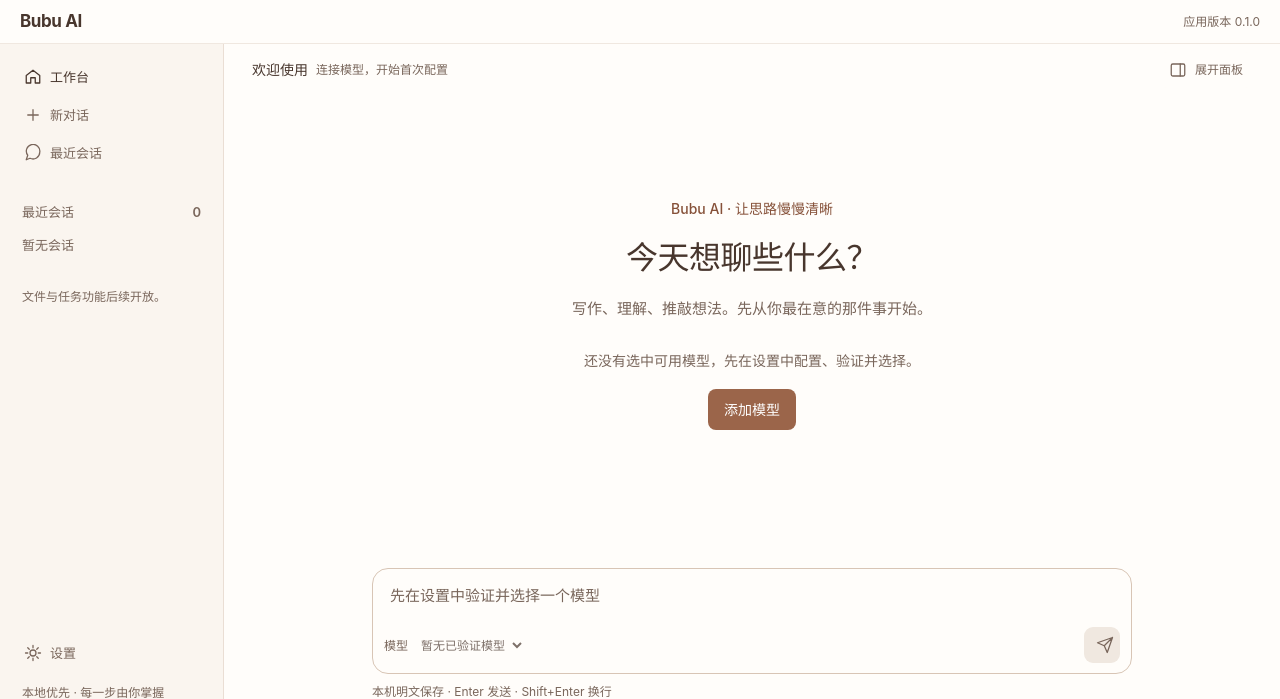
Test: model settings with an explicitly mocked bridge › creates a configuration without testing or exposing the entered key
The image size is (1280, 699).
expect the text "应用版本 0.1.0" is shown: met, box [1183,12,1260,31]
Click the button "设置" at (112, 653), box [12,634,211,672]
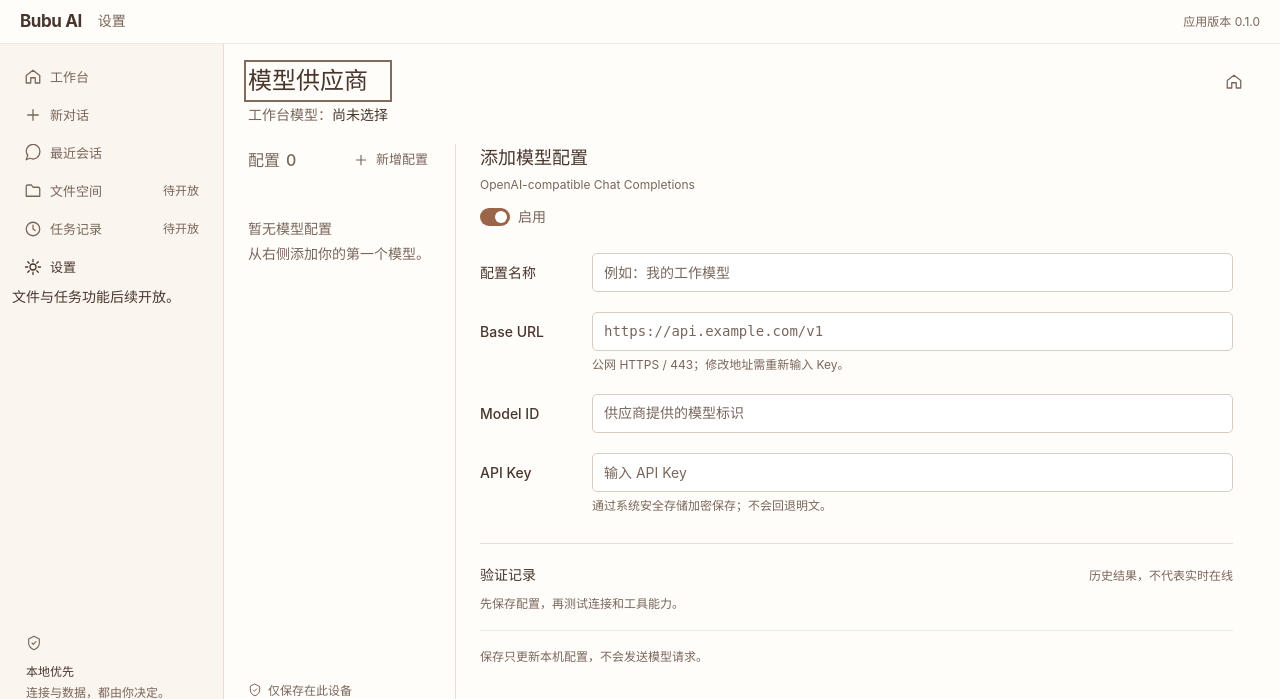
Type "示例模型" into the field labelled "配置名称" at (912, 272), box [592,253,1233,292]
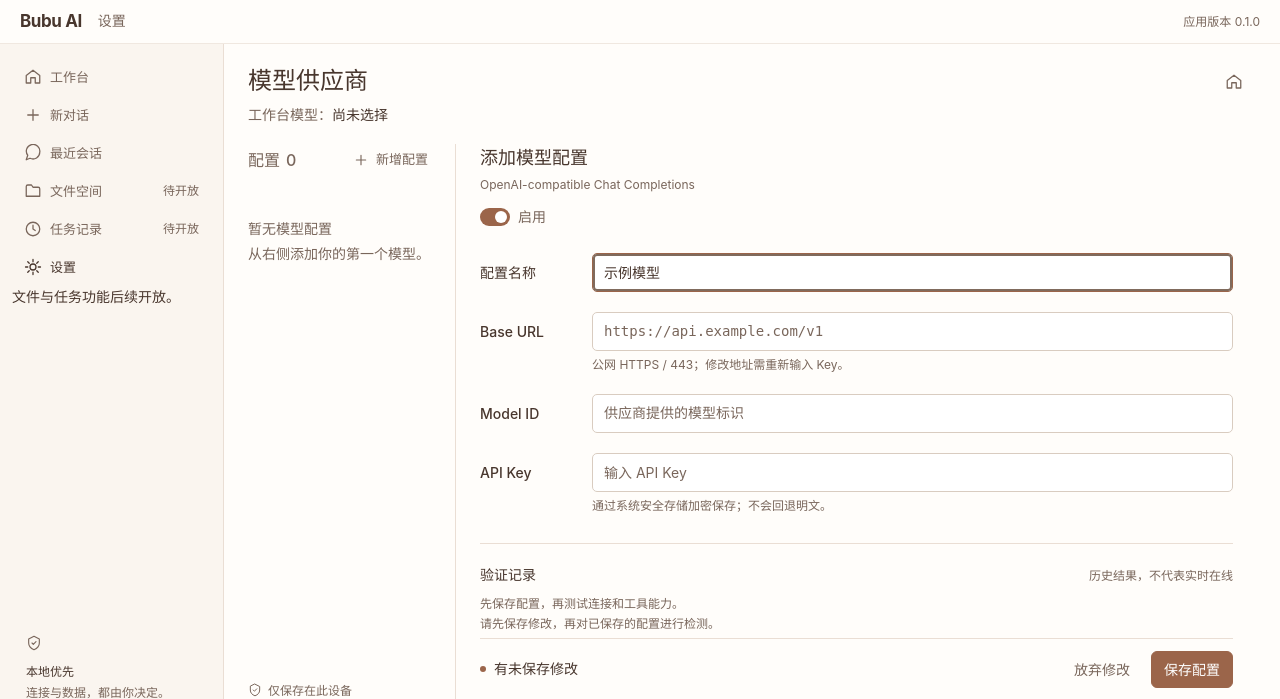
Type "https://provider.example/v1" into the field labelled "Base URL" at (912, 331), box [592,312,1233,351]
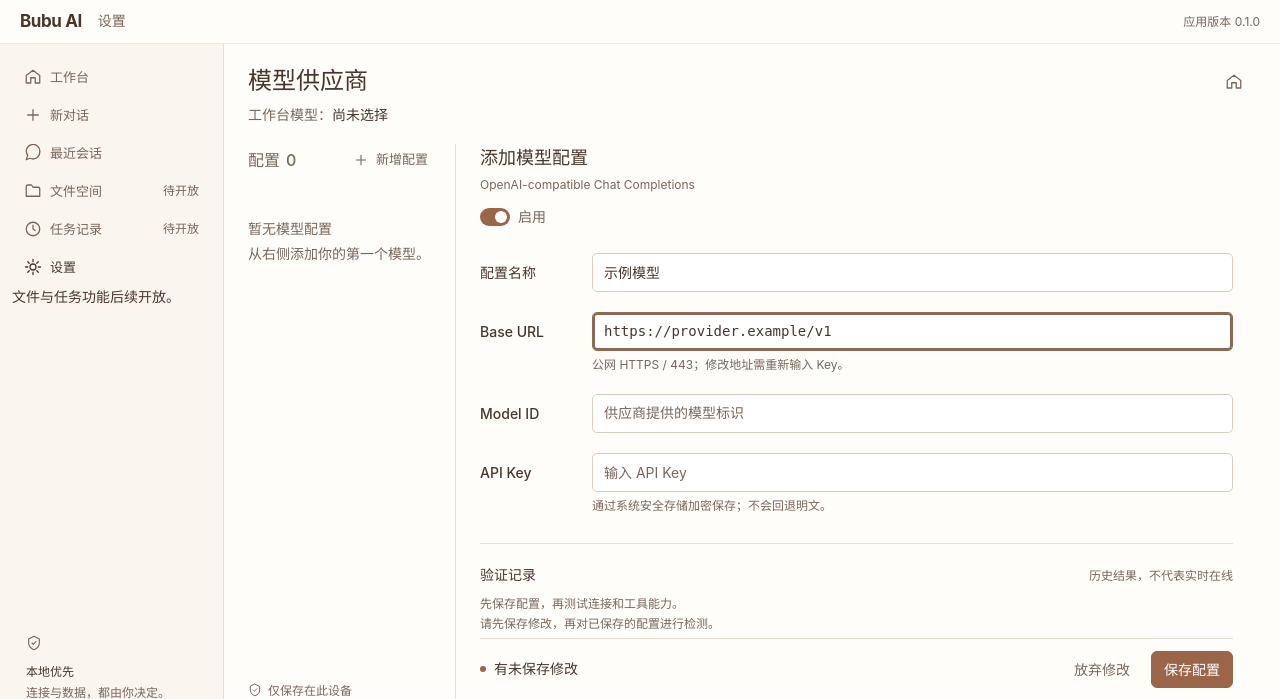
Type "fixture-model" into the field labelled "Model ID" at (912, 413), box [592,394,1233,433]
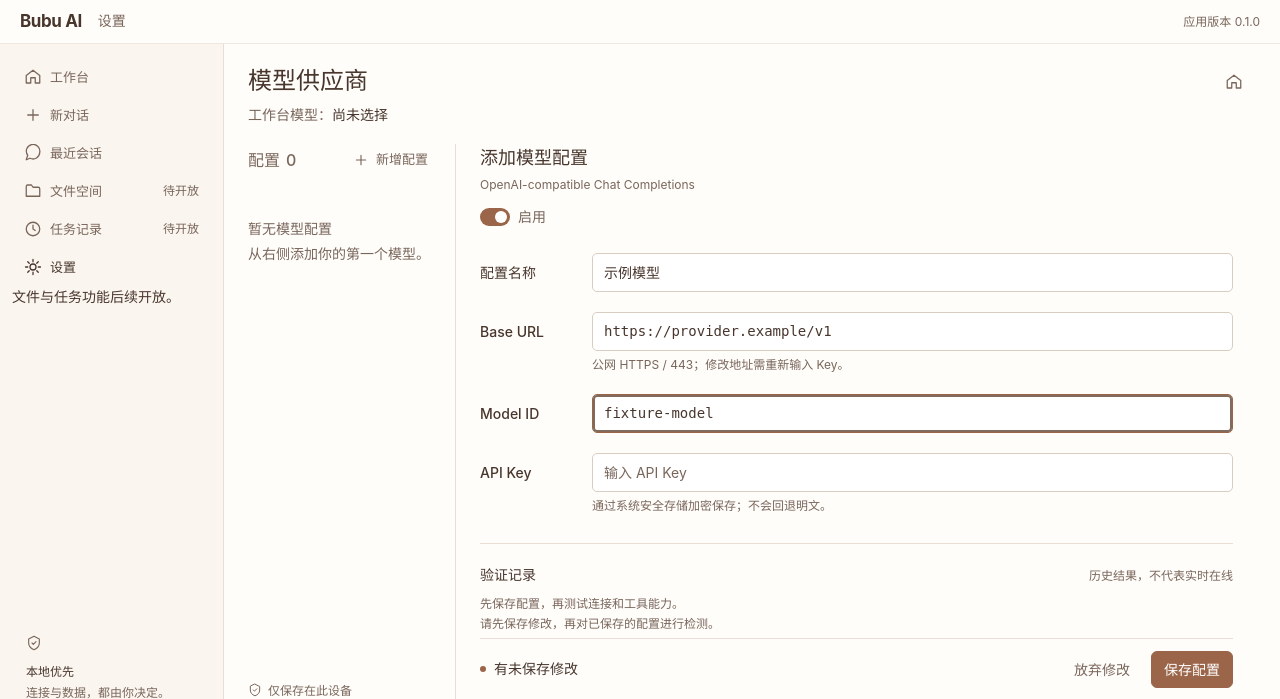
Type "fixture-only-key" into the password field labelled "API Key" at (912, 472), box [592,453,1233,492]
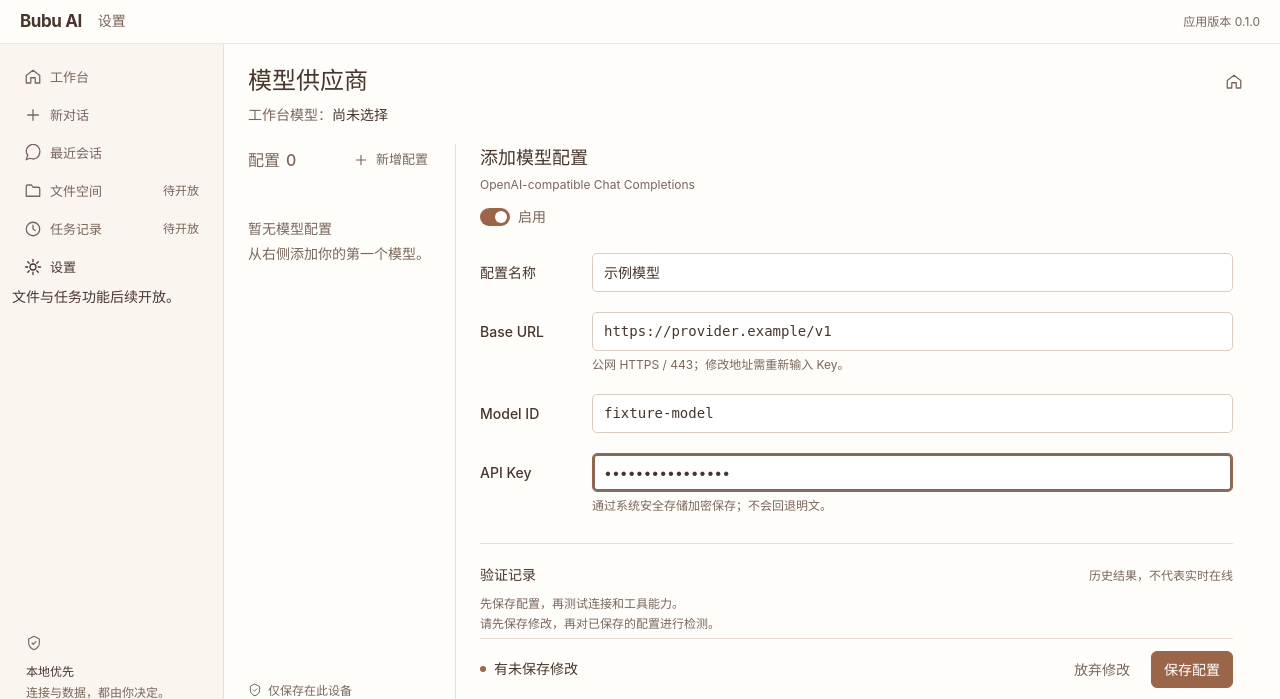
Click the button "保存配置" at (1192, 670), box [1151,651,1233,688]
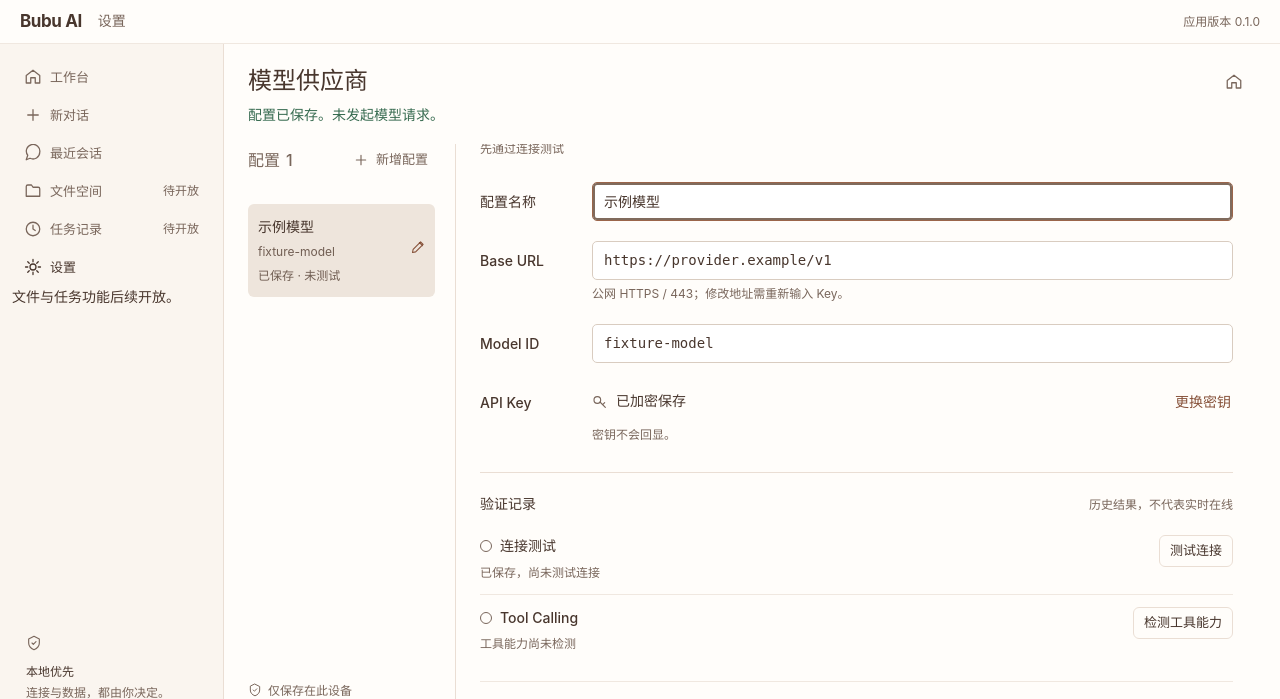
expect the element named "API Key" is empty: met, box [592,382,1233,444]
expect the button with aria-label "编辑 示例模型" is shown: met, box [248,204,435,297]
